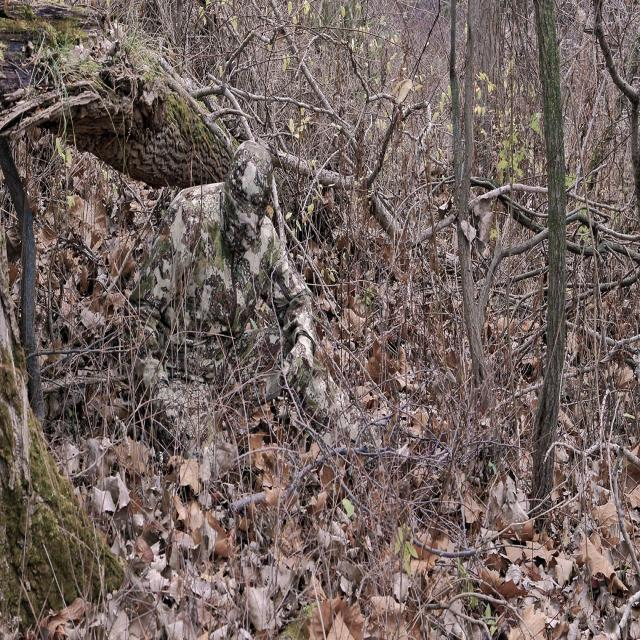Camouflage: (128, 140, 316, 488)
